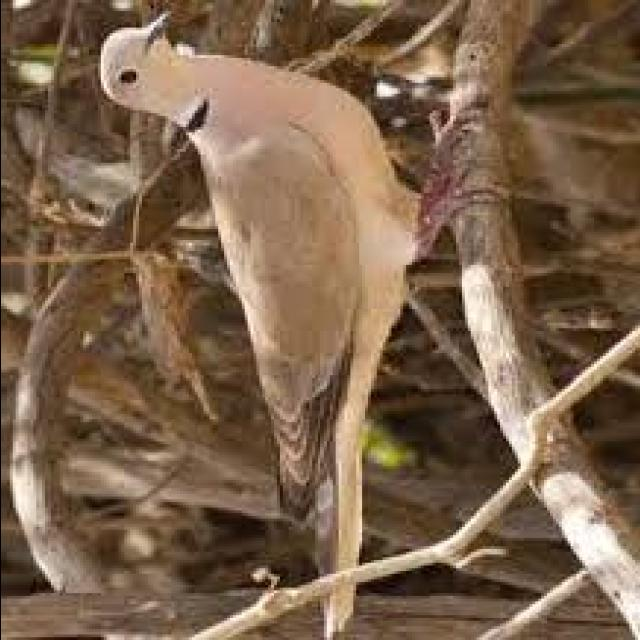pigeon: (78, 10, 480, 634)
